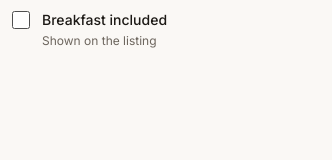
Test: Checkbox › toggles from its label
Expected: the checkbox labelled "Breakfast included" is not checked, left=12, top=11, right=30, bottom=29
Click the text "Breakfast included" at x=105, y=20, box left=42, top=10, right=167, bottom=30
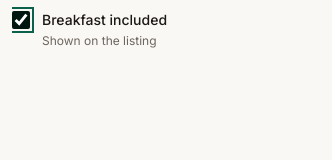
Expected: the checkbox labelled "Breakfast included" is checked, left=12, top=11, right=30, bottom=29
